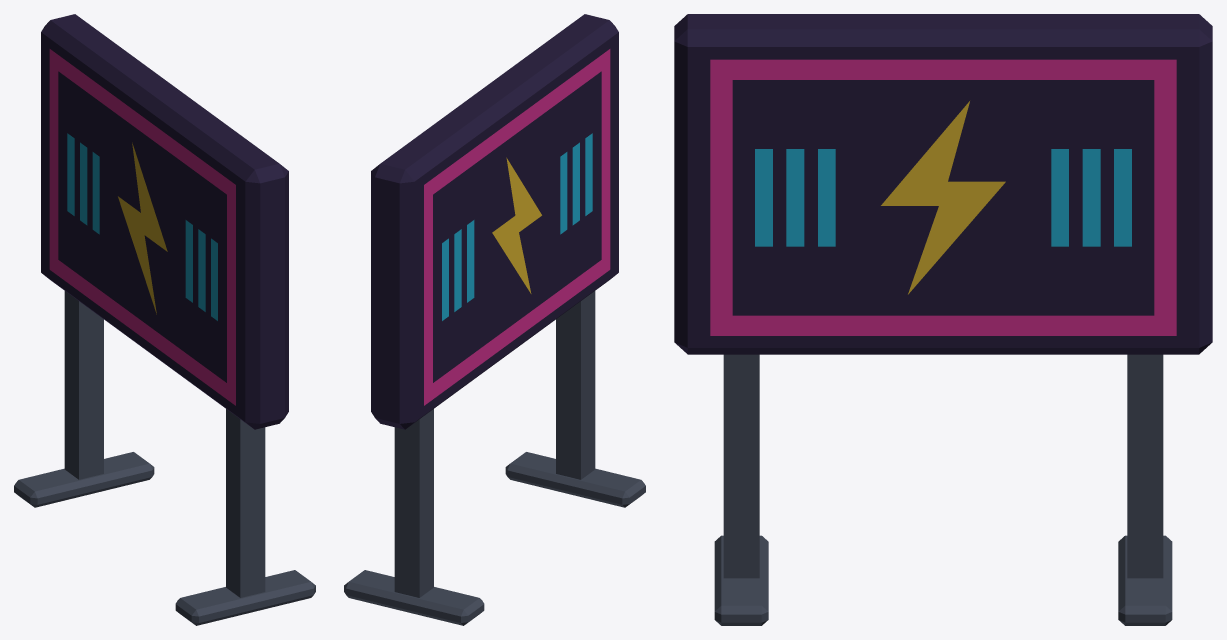
The model's file is neon-prop3.glb.
The picture shows the model from 3 angles, left to right: view 1: azimuth 30°, elevation 25°; view 2: azimuth 150°, elevation 25°; view 3: azimuth 270°, elevation 25°; orthographic projection. The views are drawn at different scales.
Parts seen in each view (by area): view 1: neon-prop3; view 2: neon-prop3; view 3: neon-prop3.
Boxes of the visible parts, x1,y1,x2,y2 form: neon-prop3: (14,14,315,625); neon-prop3: (344,14,645,625); neon-prop3: (674,14,1212,625).
Size of the model in its own units: 0.4 by 1.4 by 1.2.
